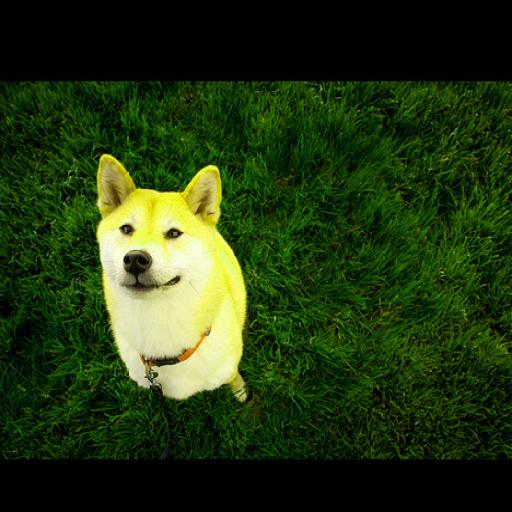dog_face: (83, 142, 234, 299)
